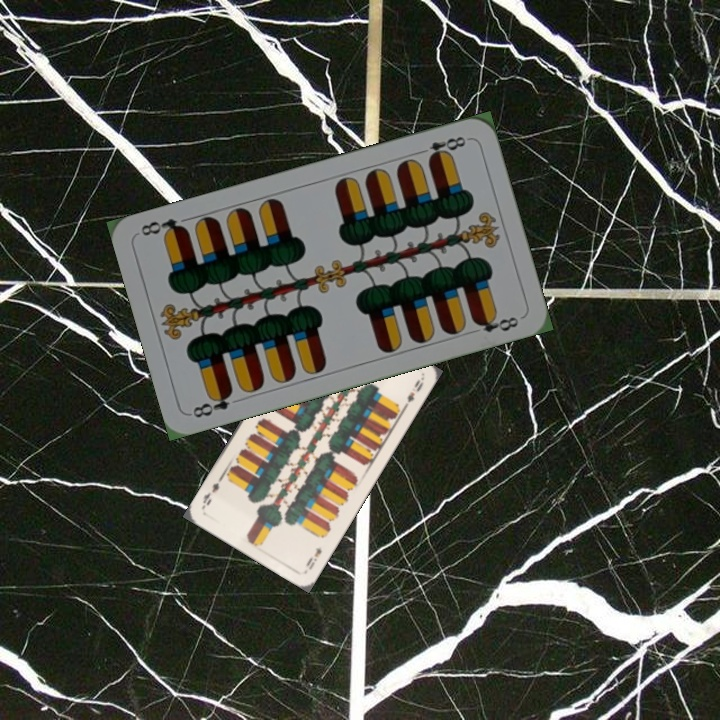E8: (413, 132, 469, 164), (188, 386, 236, 421)
E9: (302, 542, 324, 573)
